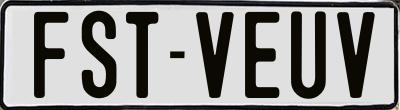E: (243, 12, 279, 104)
F: (34, 9, 72, 95)
S: (81, 8, 119, 101)
T: (126, 11, 160, 101)
U: (290, 9, 330, 100)
V: (196, 12, 238, 102), (334, 12, 374, 102)
